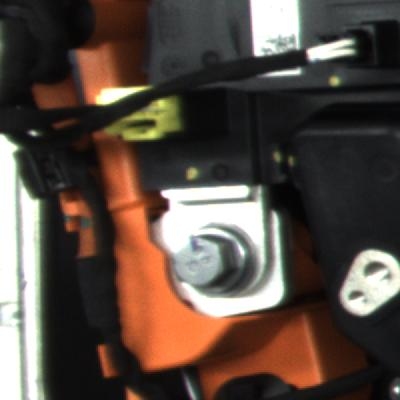nut_b: (158, 214, 267, 309)
